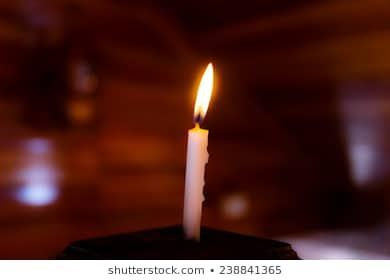fire: (189, 58, 217, 126)
